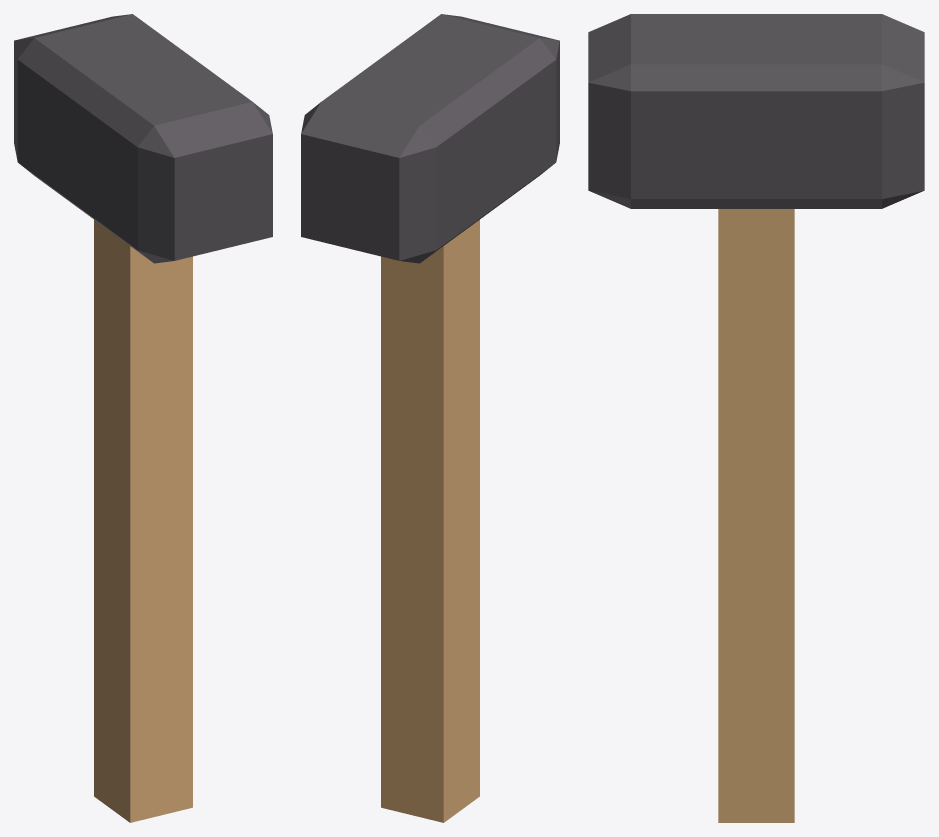
File: hammer 1.fbx
3 views of the same model, side by side, from view 1: azimuth 30°, elevation 25°; view 2: azimuth 150°, elevation 25°; view 3: azimuth 270°, elevation 25° (orthographic). The views are drawn at different scales.
Parts seen in each view (by area): view 1: 持ち手 木, ハンマー 金属; view 2: 持ち手 木, ハンマー 金属; view 3: ハンマー 金属, 持ち手 木.
Boxes of the visible parts, bbox=[...] form: 持ち手 木: bbox=[94, 220, 192, 822]; ハンマー 金属: bbox=[14, 14, 272, 263]; 持ち手 木: bbox=[381, 220, 479, 822]; ハンマー 金属: bbox=[301, 14, 559, 263]; ハンマー 金属: bbox=[588, 14, 924, 208]; 持ち手 木: bbox=[718, 209, 794, 822].
Size of the model in its own units: 2.79 by 14.84 by 5.89.
